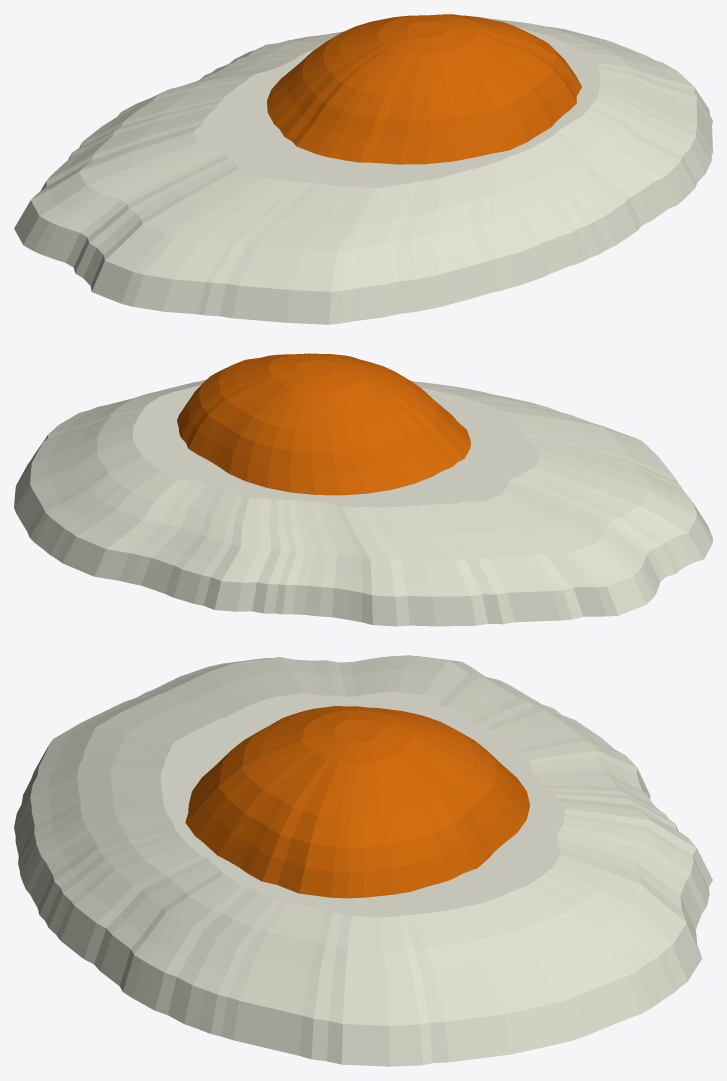
File: 目玉焼き.gltf
3 views of the same model, one above another, from view 1: azimuth 30°, elevation 25°; view 2: azimuth 150°, elevation 25°; view 3: azimuth 270°, elevation 25° (orthographic). The views are drawn at different scales.
Parts seen in each view (by area): view 1: 目玉焼き; view 2: 目玉焼き; view 3: 目玉焼き.
Boxes of the visible parts, x1,y1,x2,y2 form: 目玉焼き: [14, 14, 712, 324]; 目玉焼き: [14, 353, 712, 626]; 目玉焼き: [14, 655, 712, 1066].
Bounding box in the file's own units: 3.25 × 0.6708 × 2.47.
